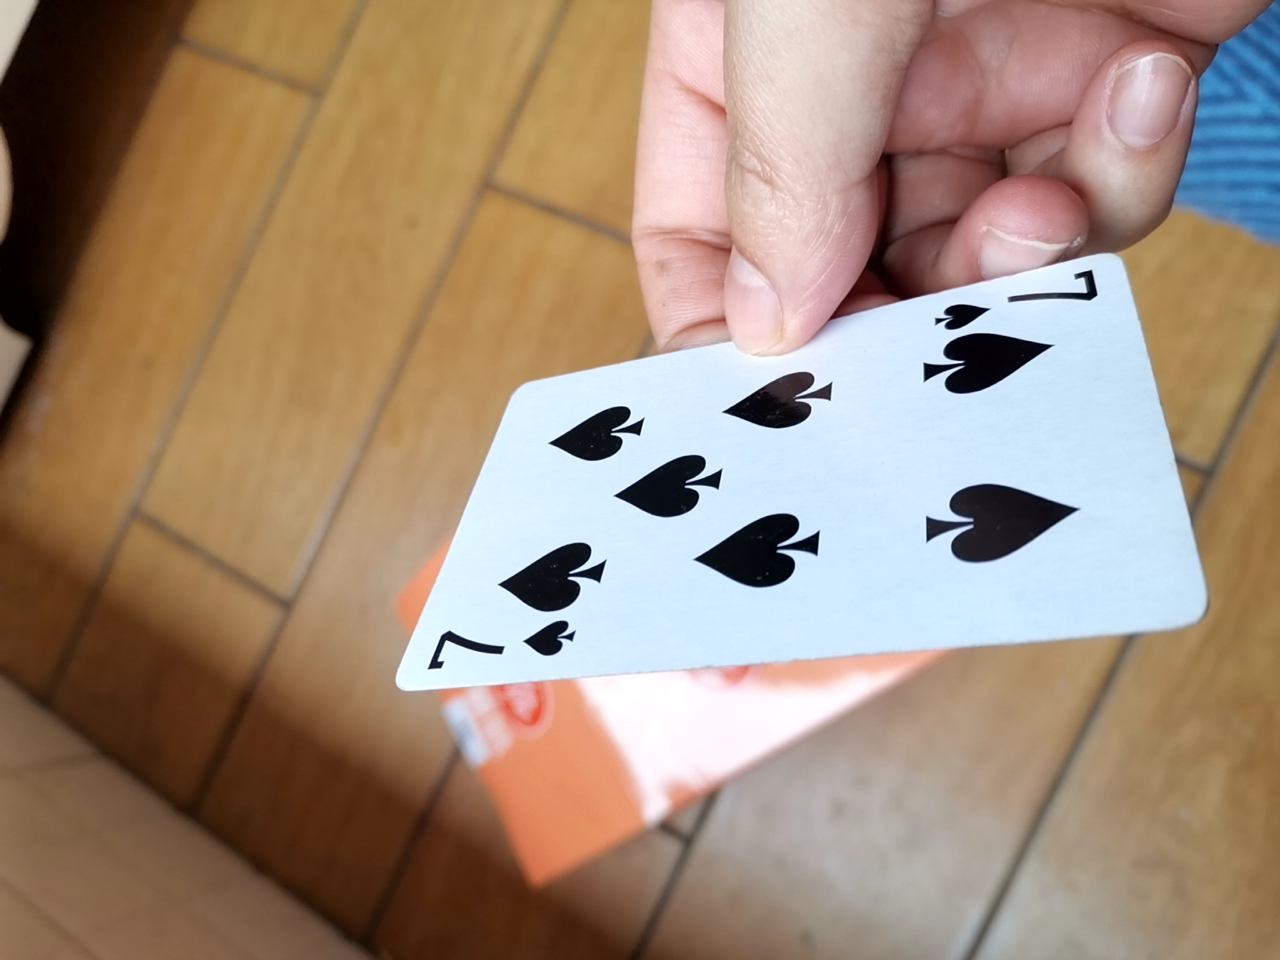ht 7: (388, 261, 1215, 757)
